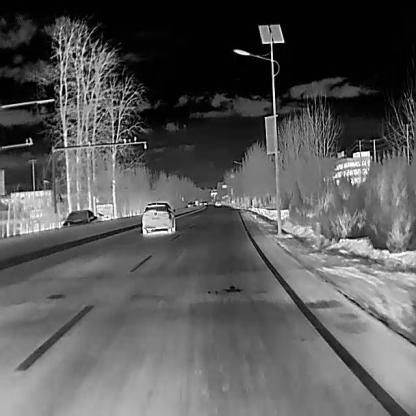car: (141, 201, 175, 235), (61, 208, 97, 227), (214, 200, 220, 205), (194, 200, 198, 205), (188, 202, 192, 206), (199, 200, 202, 204), (204, 201, 206, 204)
